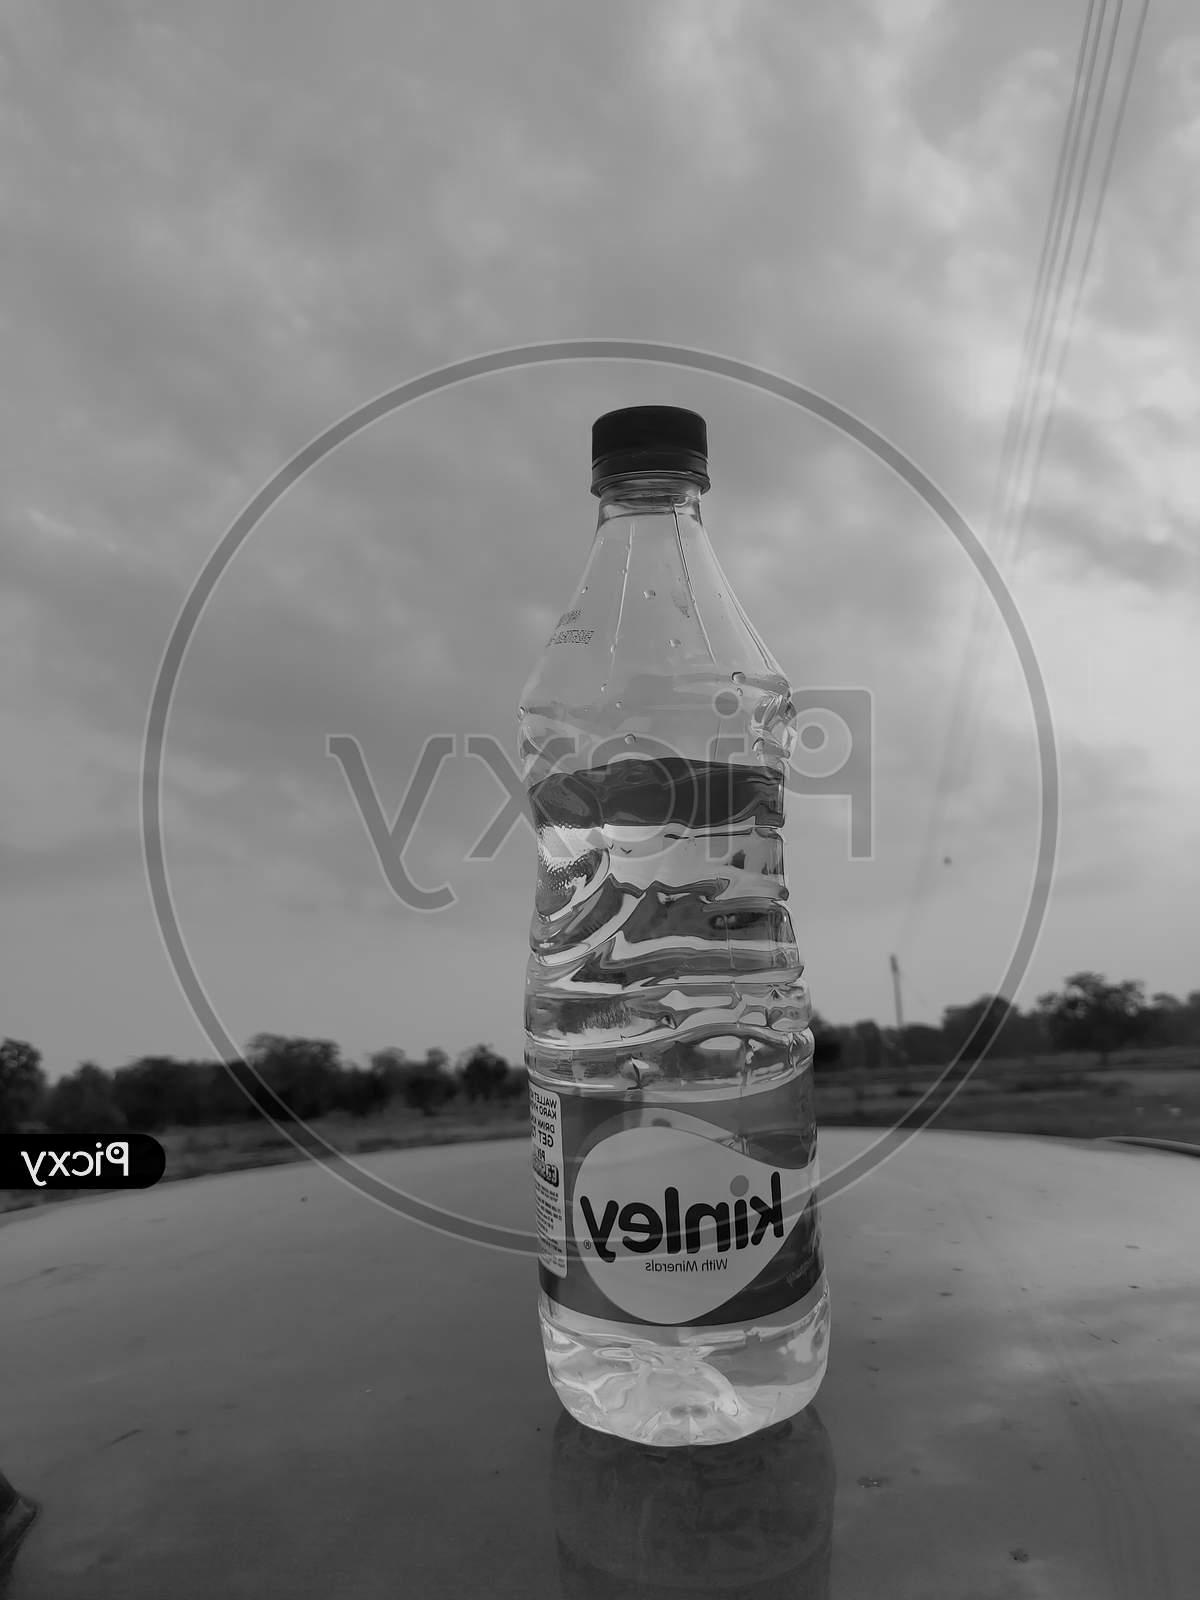bottle: (489, 357, 857, 1489)
